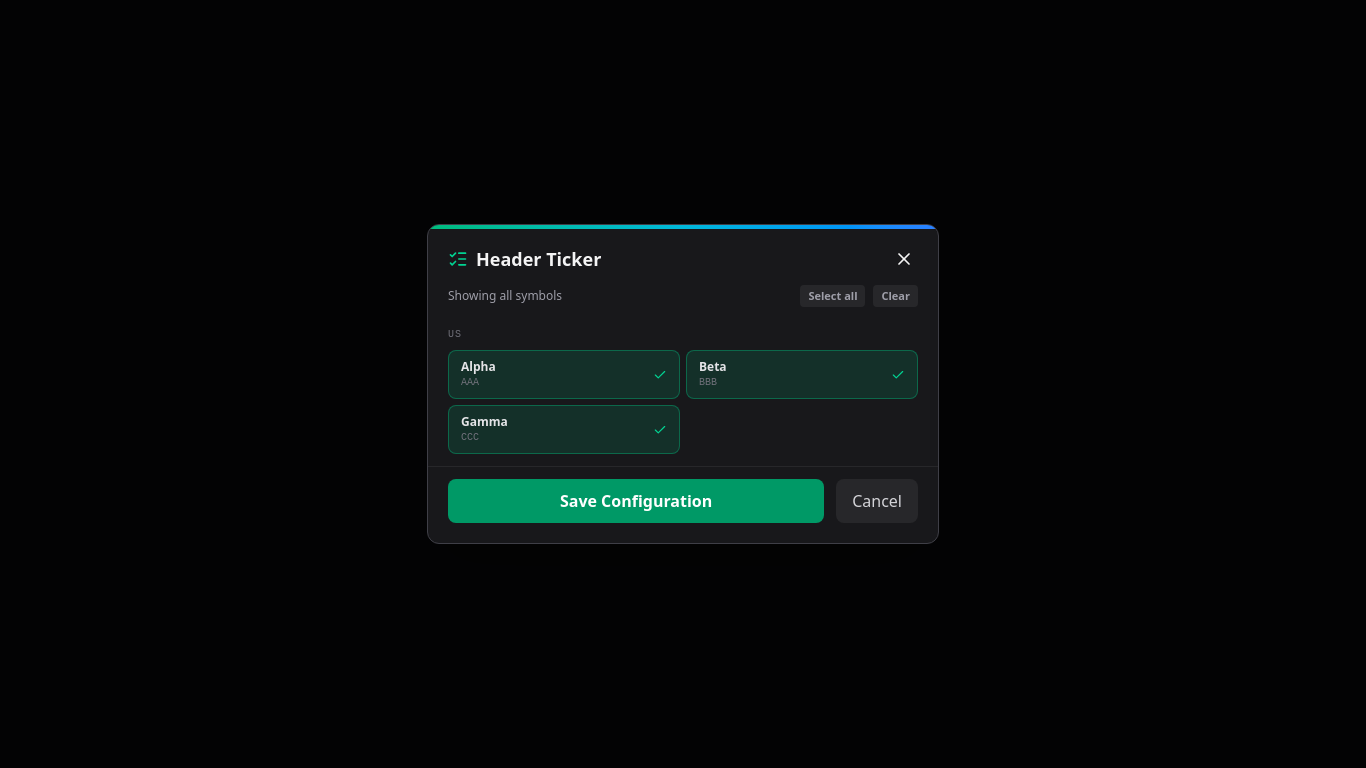
Test case: TickerConfigModal sweep-14 regression › unchecking one symbol in show-all mode keeps the rest selected even when allSymbols arrived after mount
The image size is (1366, 768).
Click the button "Alpha AAA": (564, 375) [448,350,680,399]
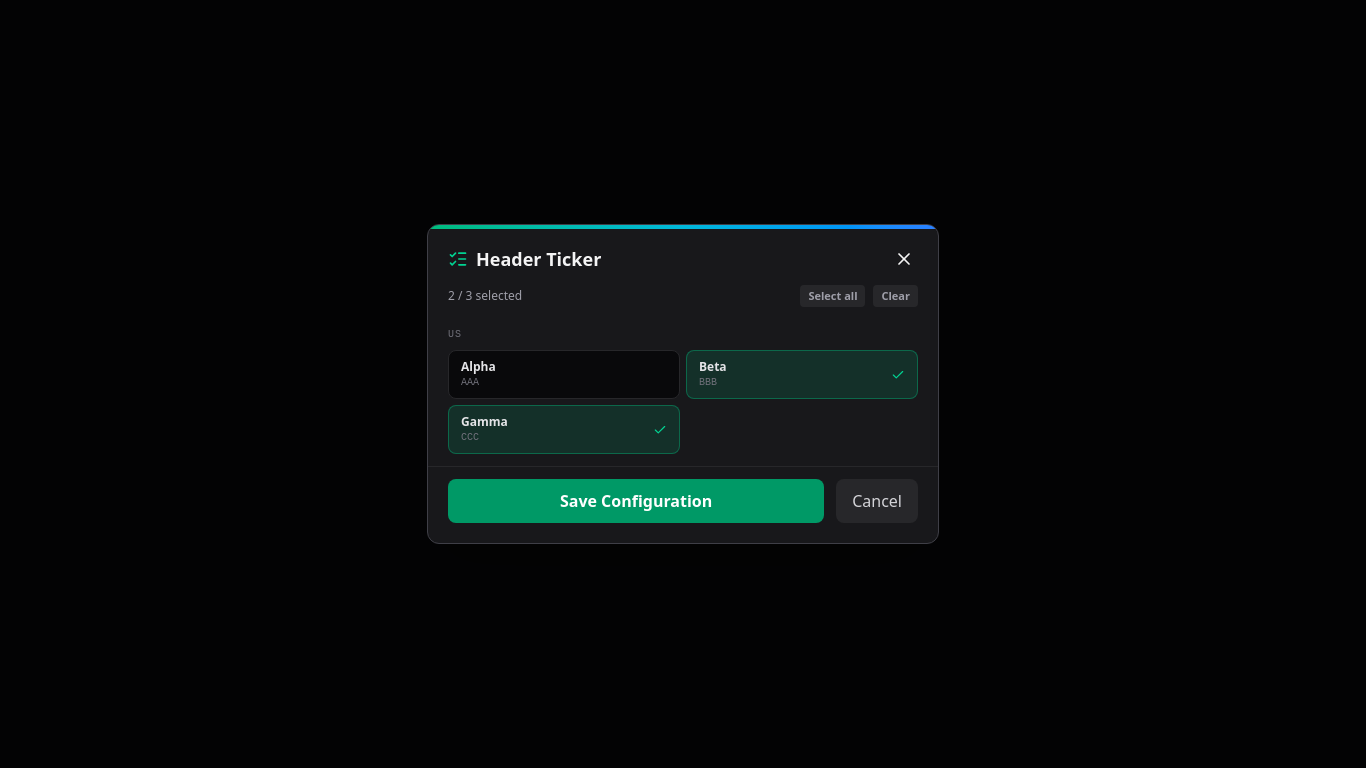
expect the text "2 / 3" is shown: met, box [448,287,522,304]
